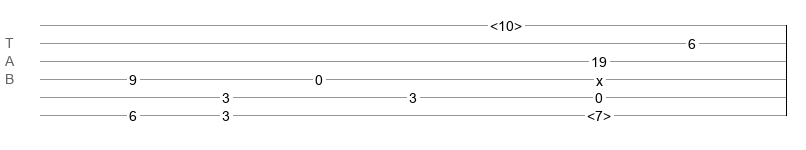0: (315, 72, 323, 82), (595, 90, 603, 100)
19: (591, 54, 607, 64)
3: (222, 90, 230, 100), (222, 108, 230, 118), (409, 90, 417, 100)
6: (129, 108, 137, 118), (688, 36, 696, 46)
9: (129, 72, 137, 82)
harmonic: (490, 18, 522, 28), (587, 108, 611, 118)
x: (596, 73, 603, 81)
